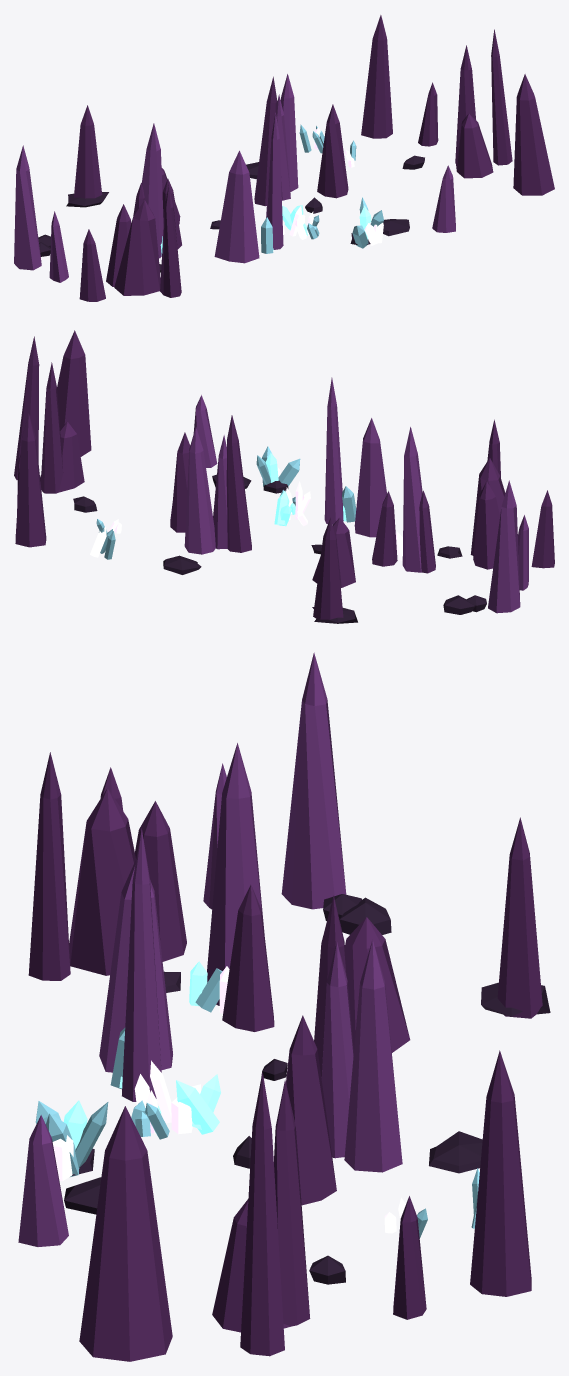
The model's file is W4_Mid_Stalagmites.fbx.
3 renders of one model, top to bottom at view 1: azimuth 30°, elevation 25°; view 2: azimuth 150°, elevation 25°; view 3: azimuth 270°, elevation 25°, orthographic. The views are drawn at different scales.
Parts seen in each view (by area): view 1: W4_Mid_Stalagmites; view 2: W4_Mid_Stalagmites; view 3: W4_Mid_Stalagmites.
Part boxes in pixels (x1,y1,x2,y2): W4_Mid_Stalagmites: [14, 15, 554, 301]; W4_Mid_Stalagmites: [14, 330, 554, 623]; W4_Mid_Stalagmites: [18, 652, 550, 1361].
Size of the model in its own units: 114 by 30.71 by 53.81.
